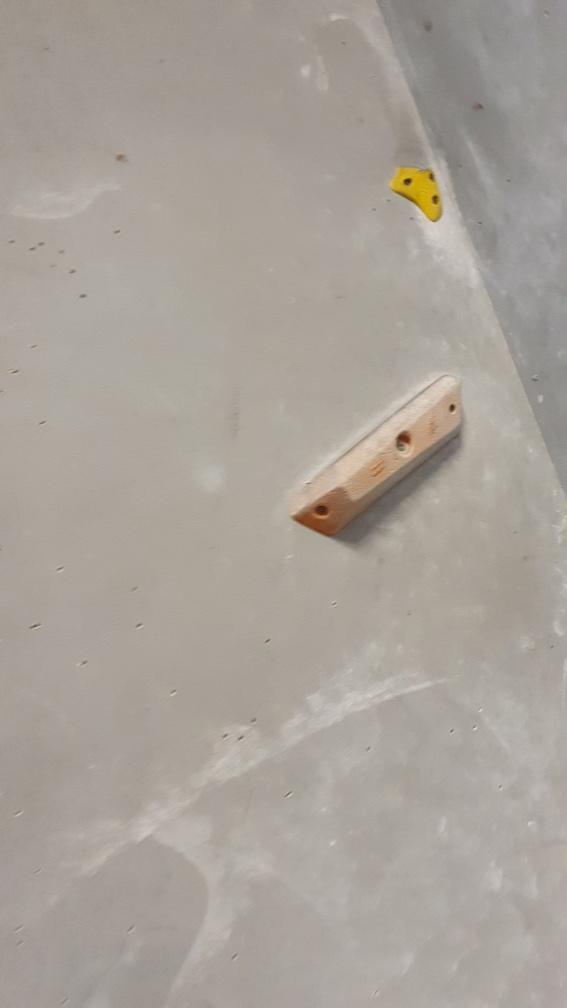Pinch: (288, 374, 468, 539)
